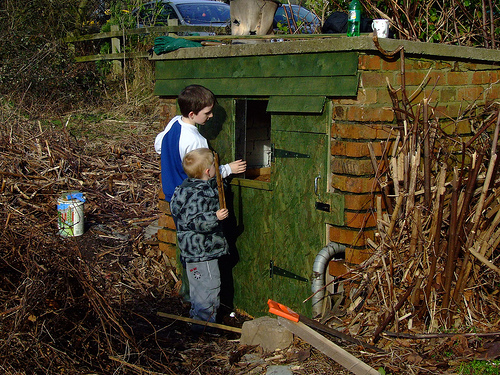without_mask: (180, 91, 218, 131)
